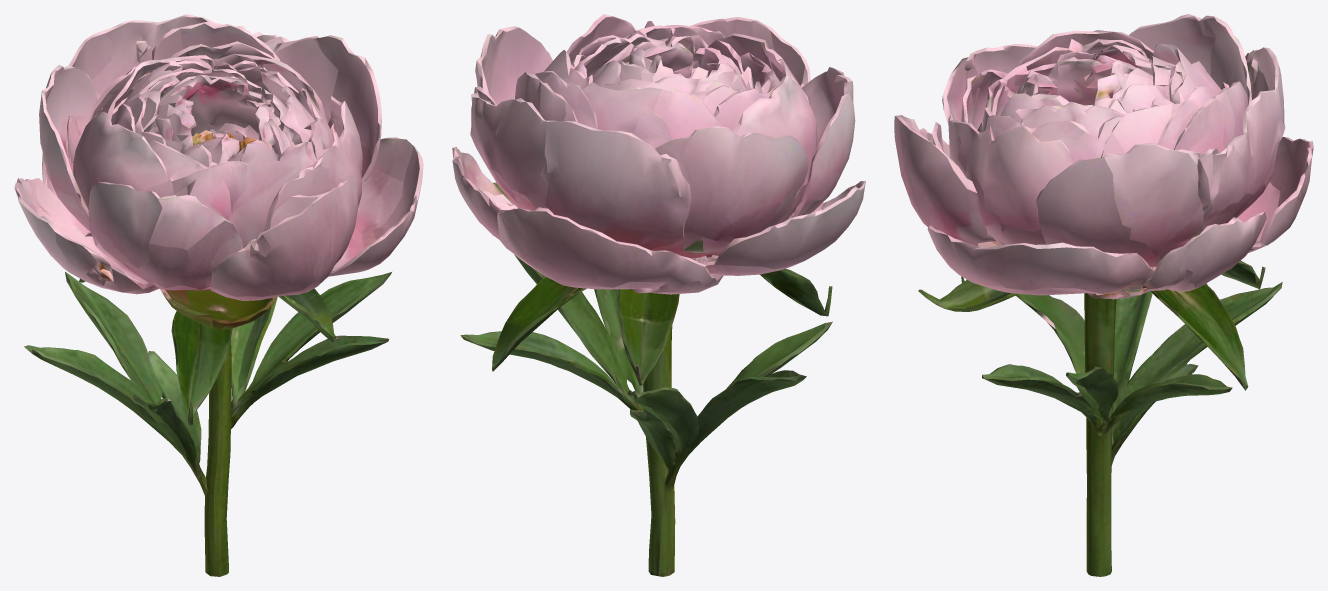
Rendered from lux-herbaceous-peony.glb.
3 renders of one model, left to right at view 1: azimuth 30°, elevation 25°; view 2: azimuth 150°, elevation 25°; view 3: azimuth 270°, elevation 25°, orthographic. The views are drawn at different scales.
Visible parts, largest first — view 1: geometry_0; view 2: geometry_0; view 3: geometry_0.
Part boxes in pixels (x1,y1,x2,y2): geometry_0: (14, 14, 423, 576); geometry_0: (452, 14, 865, 576); geometry_0: (894, 14, 1313, 576).
Bounding box in the file's own units: 0.4507 × 0.6 × 0.4493.
Materials: 1 (1 with a texture image).
